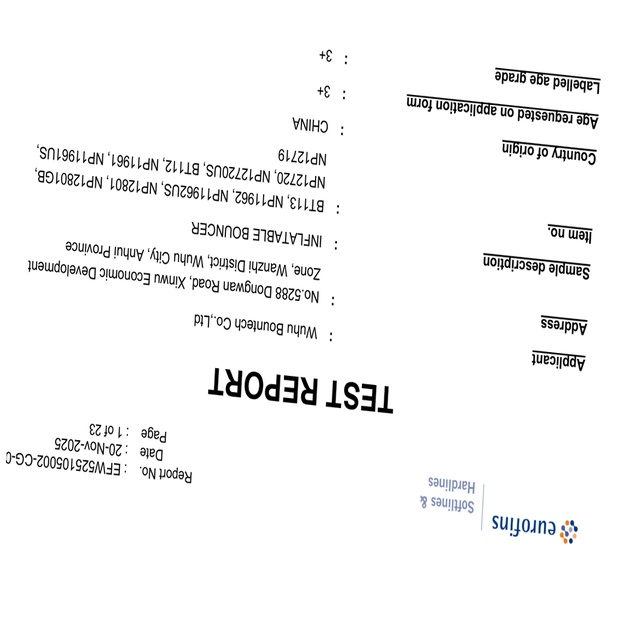eurofins: (488, 511, 588, 552)
